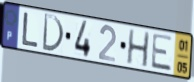2: (97, 24, 118, 65)
4: (73, 19, 92, 59)
D: (41, 12, 66, 55)
E: (150, 33, 174, 74)
H: (125, 29, 151, 70)
L: (21, 11, 40, 49)
